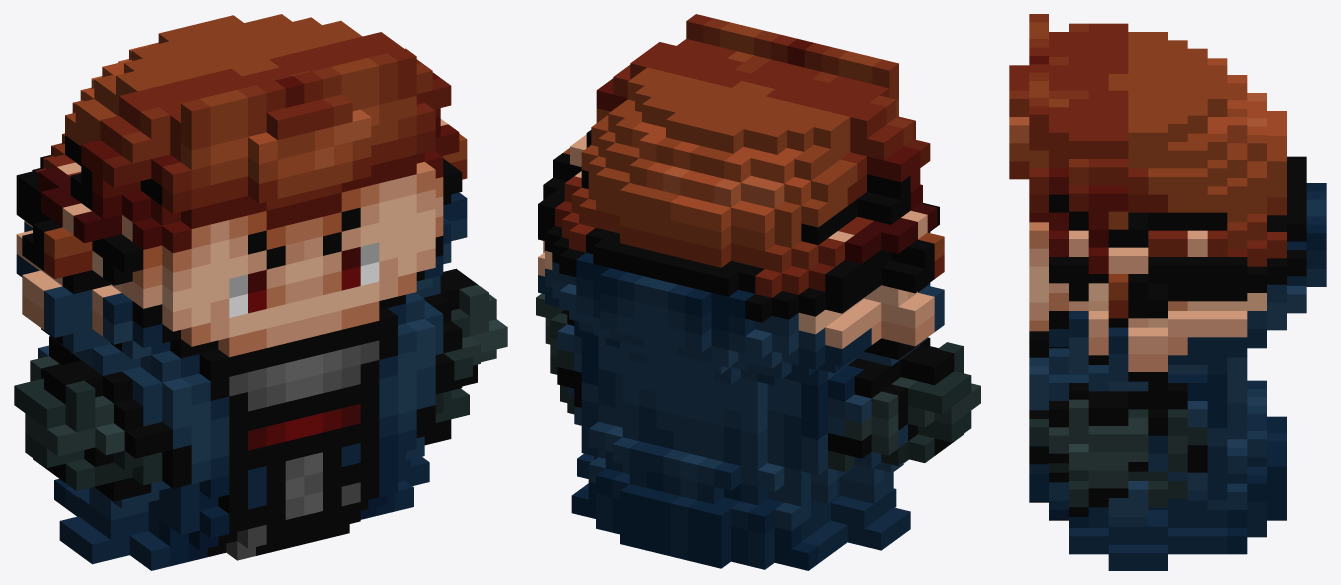
File: Icon_751_03.obj
The picture shows the model from 3 angles, left to right: view 1: azimuth 30°, elevation 25°; view 2: azimuth 150°, elevation 25°; view 3: azimuth 270°, elevation 25°; orthographic projection. The views are drawn at different scales.
Size of the model in its own units: 2.4 by 2.4 by 1.6.
Materials: 1 (1 with a texture image).
